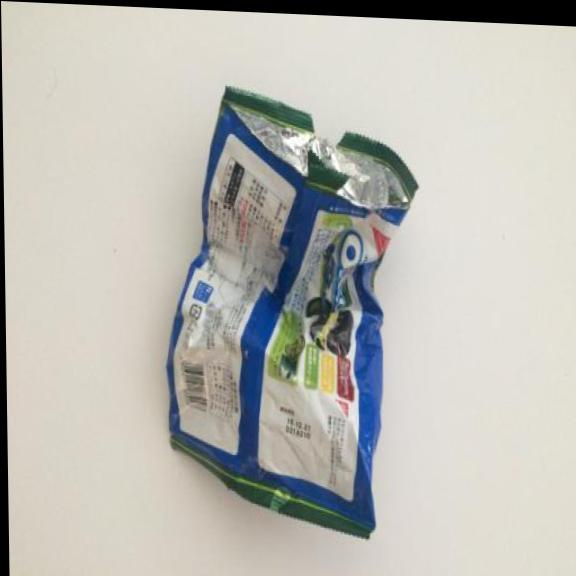Plastik: (155, 72, 427, 550)
